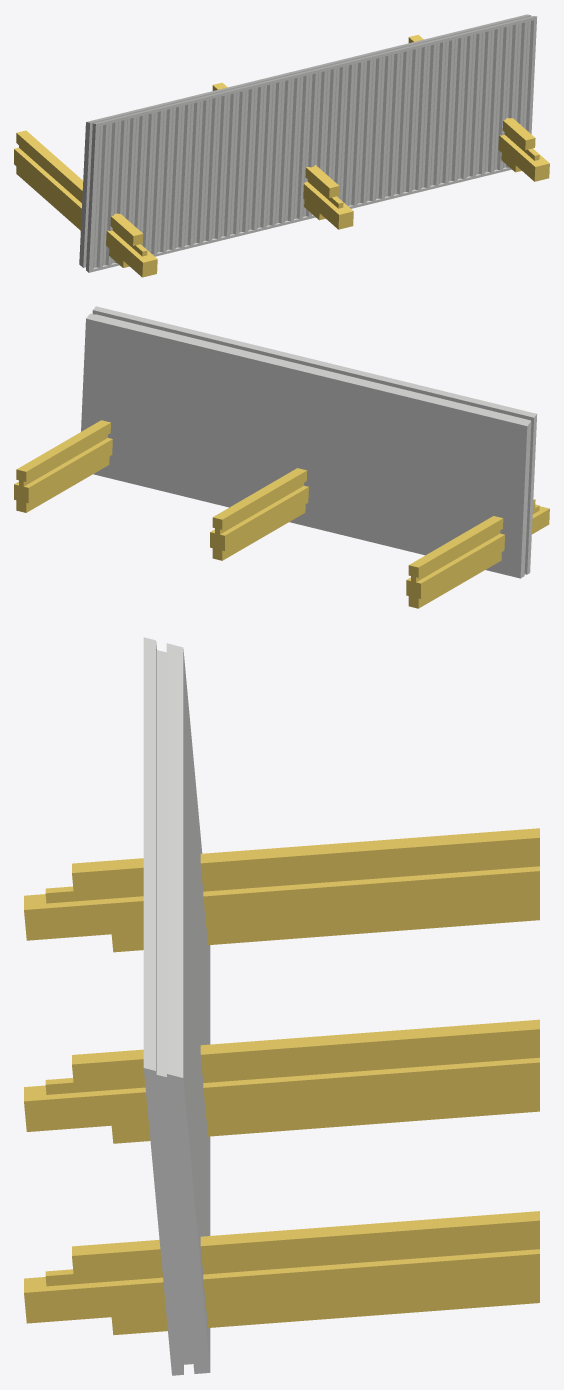
The model's file is canopy.glb.
3 renders of one model, top to bottom at view 1: azimuth 30°, elevation 25°; view 2: azimuth 150°, elevation 25°; view 3: azimuth 270°, elevation 25°, orthographic. The views are drawn at different scales.
Visible parts, largest first — view 1: Canopy v1; view 2: Canopy v1; view 3: Canopy v1.
Boxes of the visible parts, bbox=[...] form: Canopy v1: bbox=[14, 14, 549, 277]; Canopy v1: bbox=[14, 306, 549, 608]; Canopy v1: bbox=[24, 637, 539, 1375].
Size of the model in its own units: 18 by 6 by 9.12.
